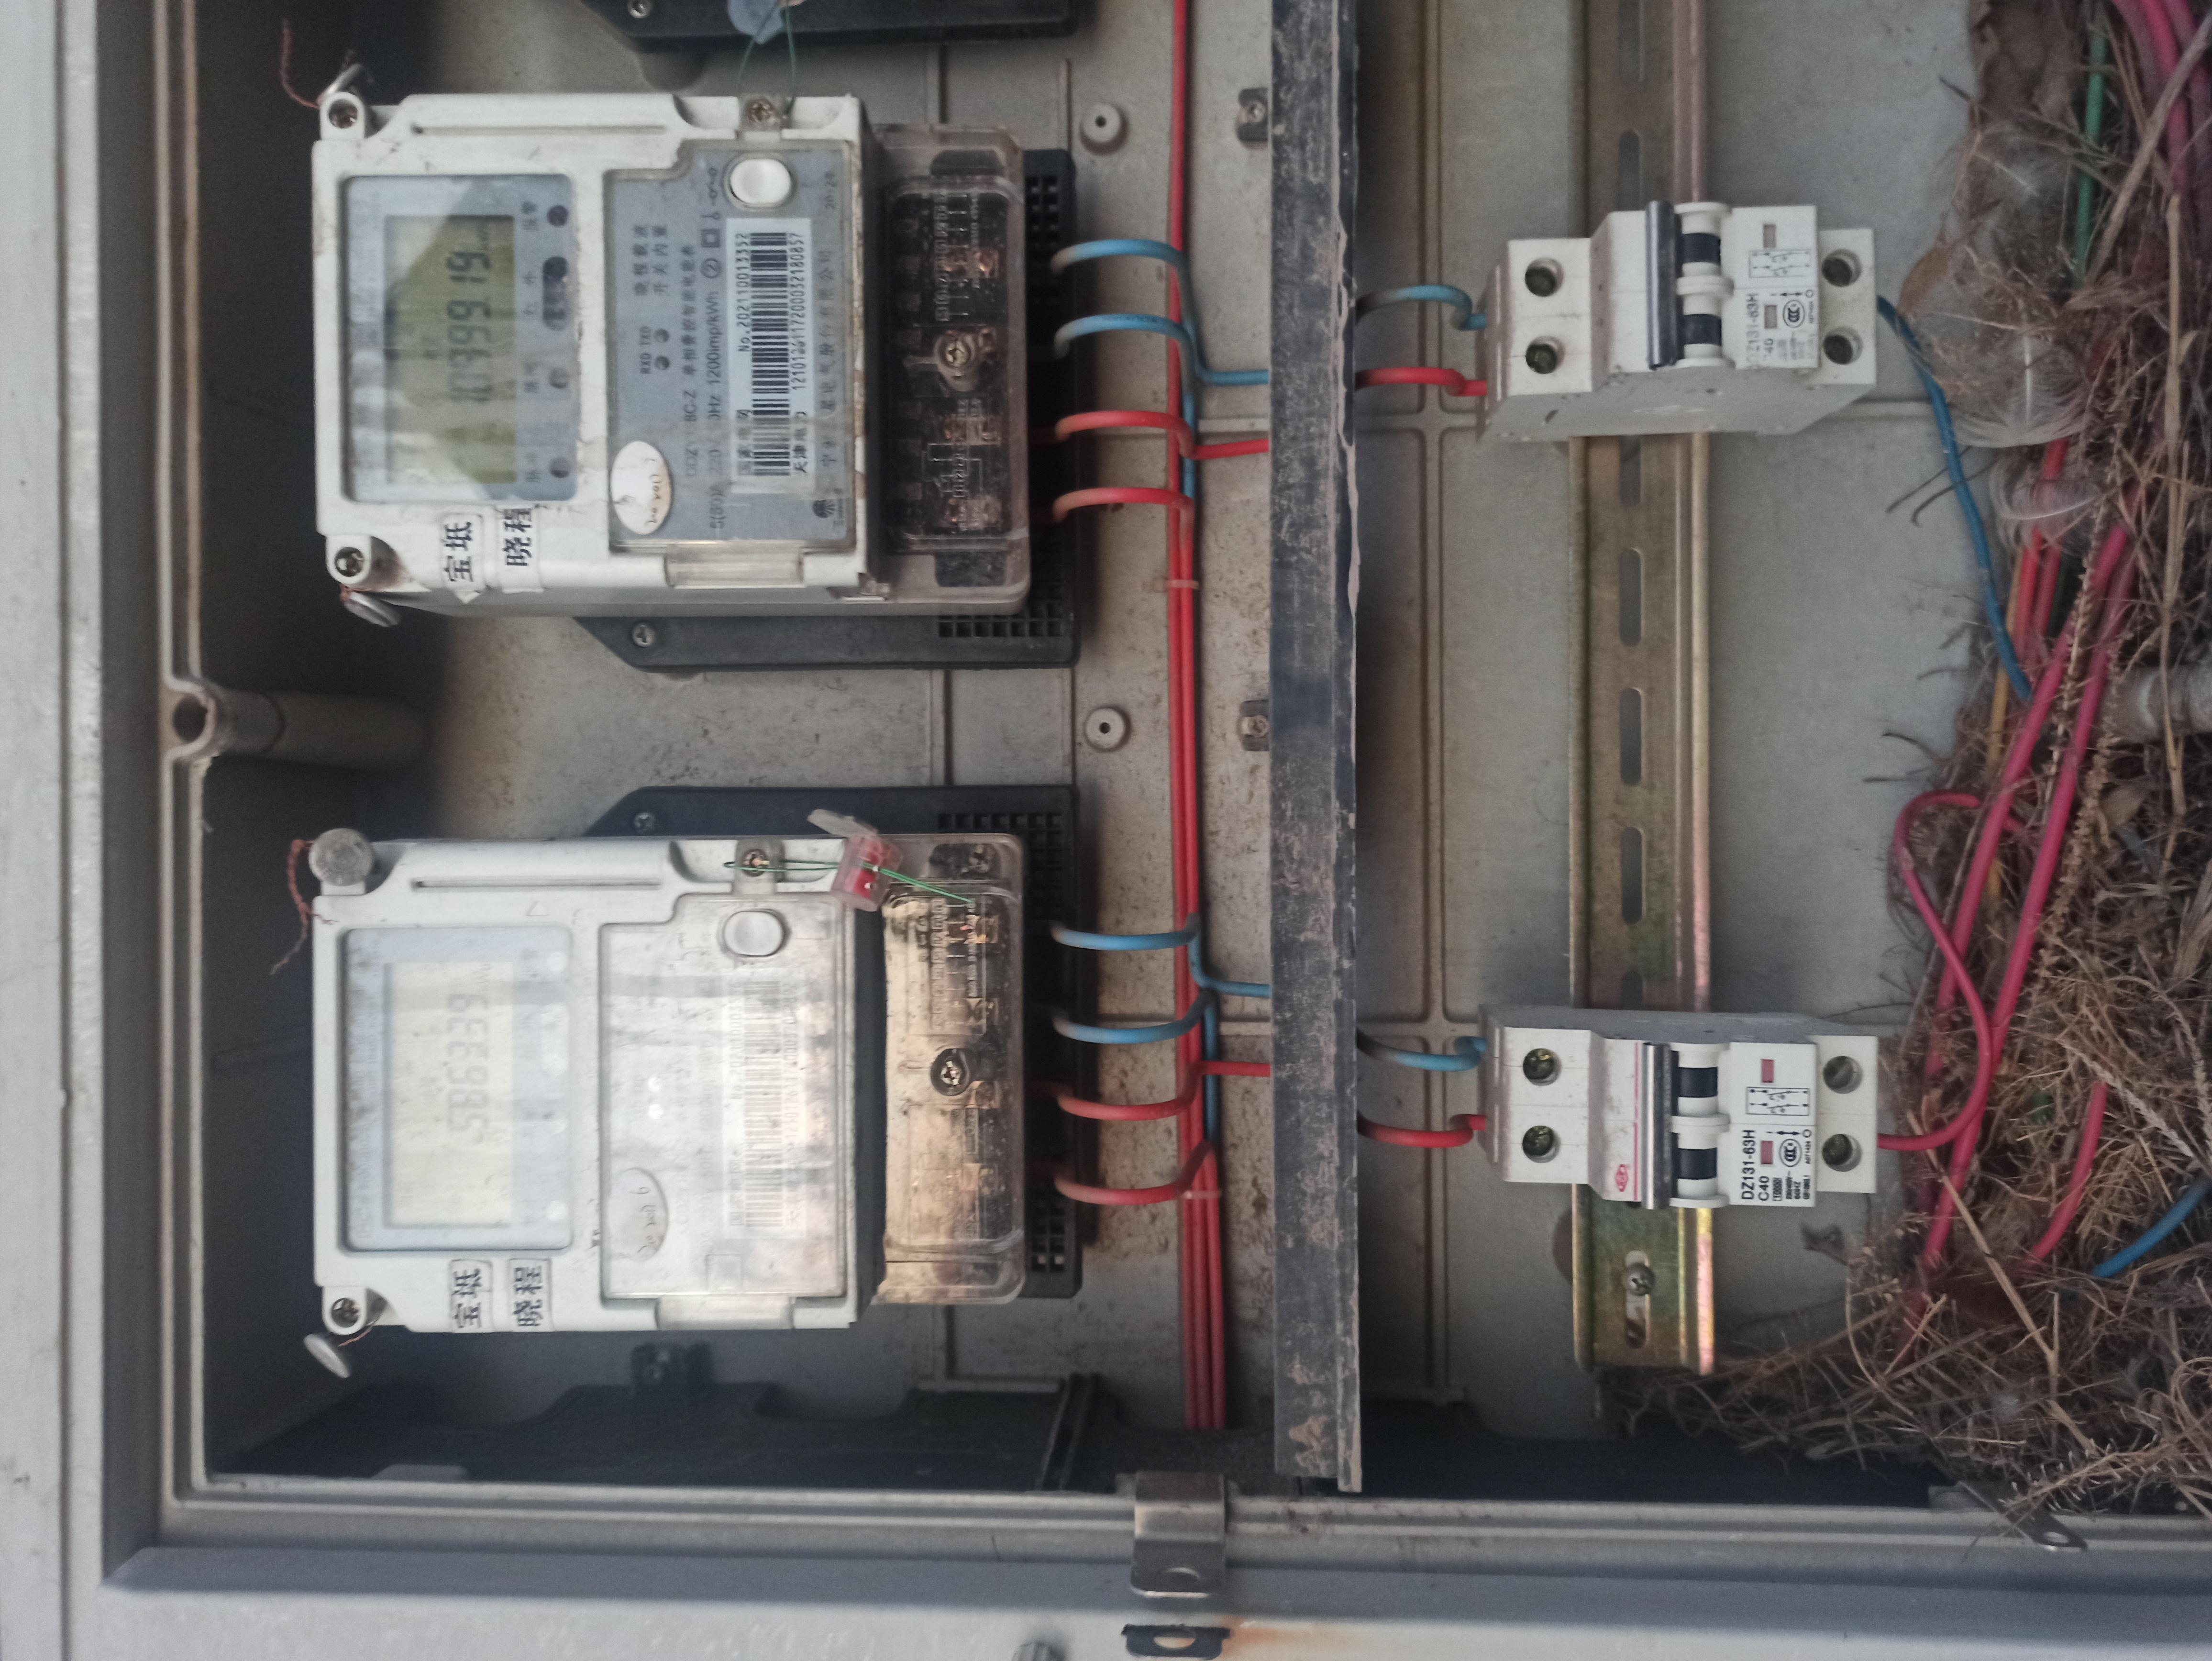digital: (311, 98, 862, 593), (316, 832, 857, 1335)
